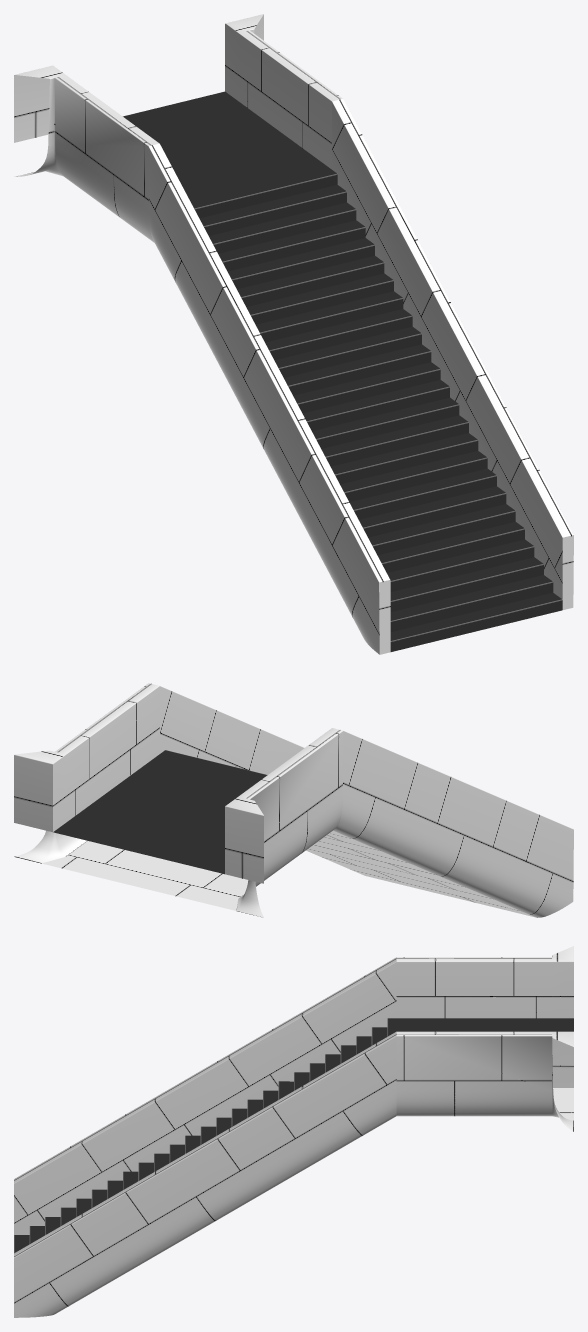
Rendered from Stairs03_265x900cm.FBX.
3 renders of one model, top to bottom at view 1: azimuth 30°, elevation 25°; view 2: azimuth 150°, elevation 25°; view 3: azimuth 270°, elevation 25°, orthographic. The views are drawn at different scales.
Parts seen in each view (by area): view 1: Stairs, Parapet; view 2: Parapet, Stairs; view 3: Parapet, Stairs.
Boxes of the visible parts, x1,y1,x2,y2 form: Stairs: (123, 91, 562, 651); Parapet: (14, 14, 573, 654); Parapet: (14, 683, 573, 917); Stairs: (53, 750, 267, 874); Parapet: (14, 946, 573, 1317); Stairs: (14, 1018, 573, 1253).
Size of the model in its own units: 385 by 500 by 900.
